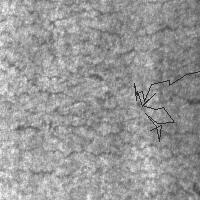crazing: (2, 2, 193, 194), (134, 59, 200, 141)
